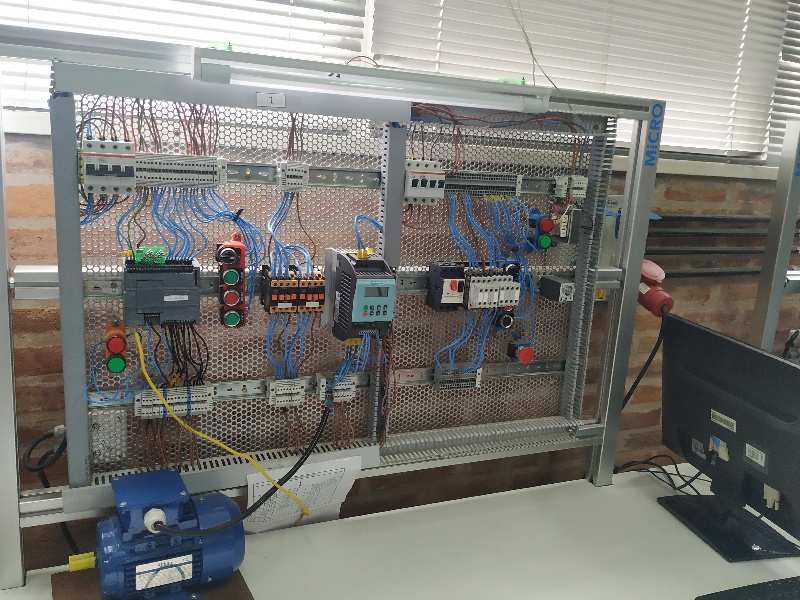Tablero 1: (72, 86, 603, 448)
